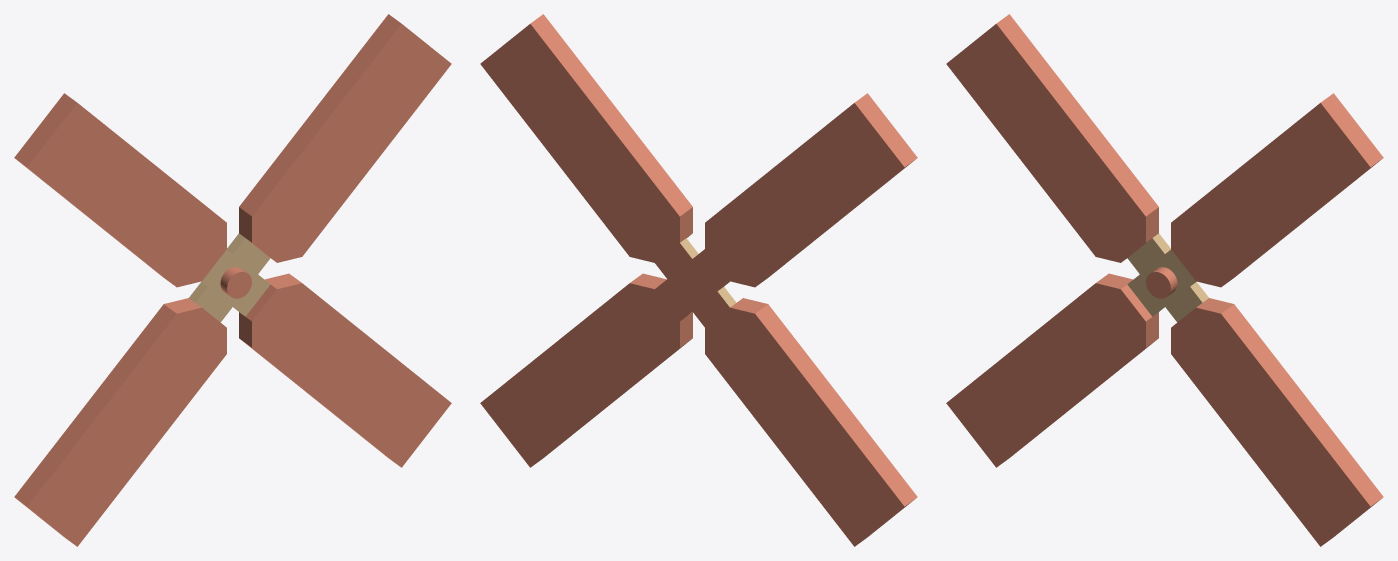
File: Windmill_blades_01.glb
3 views of the same model, side by side, from view 1: azimuth 30°, elevation 25°; view 2: azimuth 150°, elevation 25°; view 3: azimuth 330°, elevation 25° (orthographic).
Visible parts, largest first — view 1: Mesh1 Windmill_blades Model; view 2: Mesh1 Windmill_blades Model; view 3: Mesh1 Windmill_blades Model.
Boxes of the visible parts, left/top/right/bottom form: Mesh1 Windmill_blades Model: left=14, top=14, right=451, bottom=546; Mesh1 Windmill_blades Model: left=480, top=14, right=917, bottom=546; Mesh1 Windmill_blades Model: left=946, top=14, right=1383, bottom=546.
Bounding box in the file's own units: 3.72 × 3.72 × 0.2.
